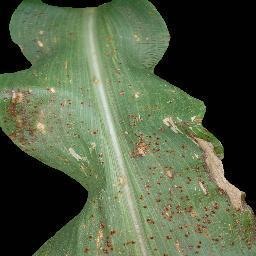Corn_Common_Rust: (163, 107, 255, 256), (0, 80, 75, 153), (81, 221, 136, 256), (128, 109, 163, 159), (149, 159, 164, 256), (77, 141, 104, 178), (111, 75, 144, 98), (31, 24, 51, 53), (105, 41, 125, 70), (139, 190, 149, 230), (78, 81, 89, 108), (111, 174, 124, 196), (78, 118, 89, 140), (91, 73, 100, 87), (91, 125, 98, 138)
